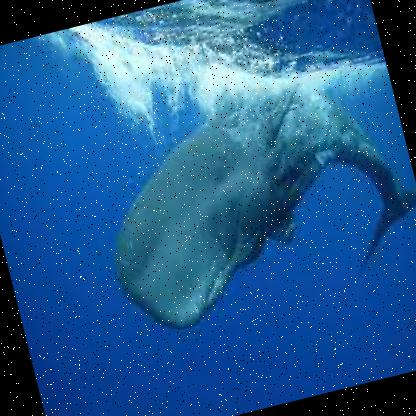sperm_whale: (63, 54, 415, 380)
